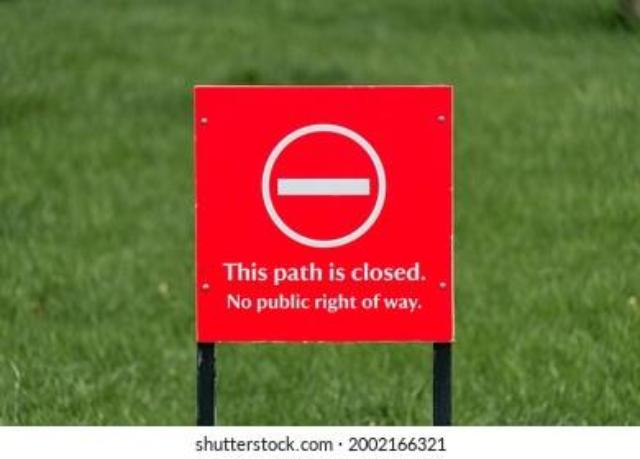B2: (268, 132, 380, 240)
